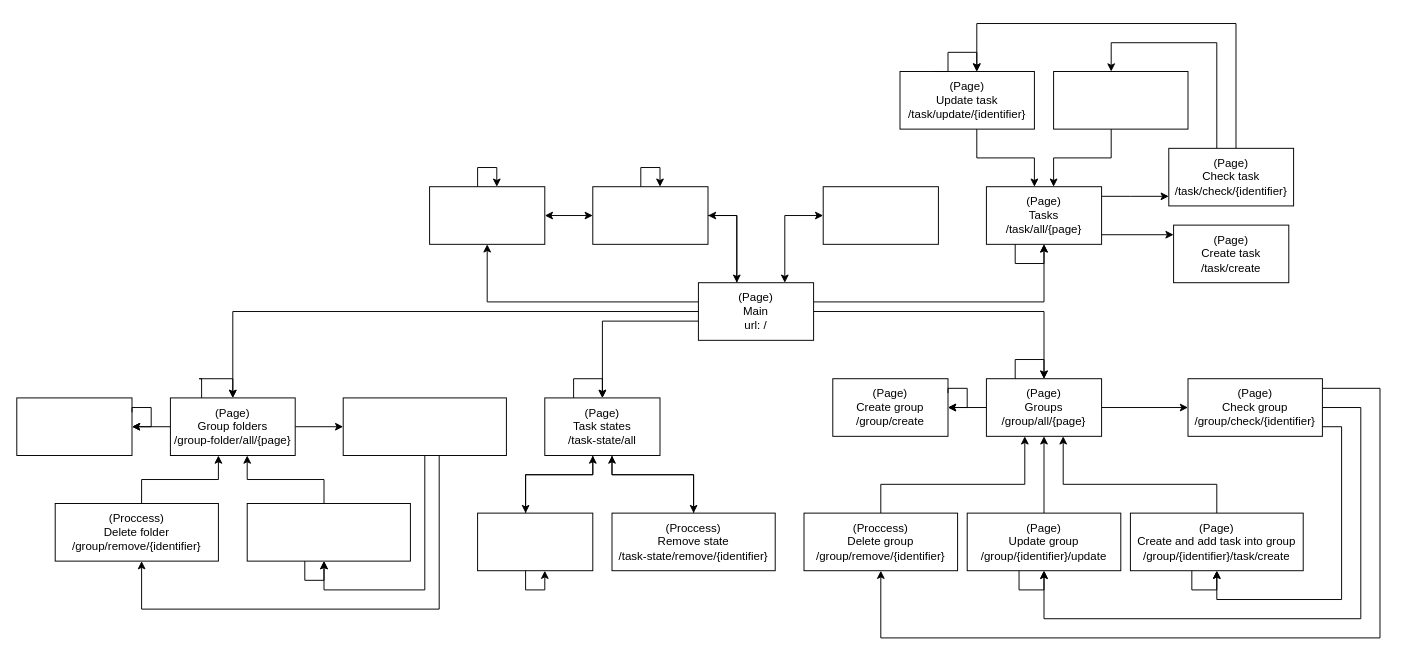
The diagram is 1404 pixels wide and 662 high, and some of its shapes have lost their labels. Here are the shapes that lost their labels. From the top down, the centre of each, then its label:
the point at 1120,100: (Proccess) Delete task /task/remove/{identifier}
the point at 487,215: (Page) Register url: /account/register
the point at 650,215: (Page) Login url: /account/login
the point at 880,215: (Proccess) Logout url: /account/logout
the point at 74,426: (Page) Create folder /group-folder/create
the point at 424,426: (Page) Check folder /group-folder/check/{identifier}
the point at 328,532: (Page) Update folder /group-folder/{identifier}/update
the point at 535,541: (Page) Create new state /task-state/create
